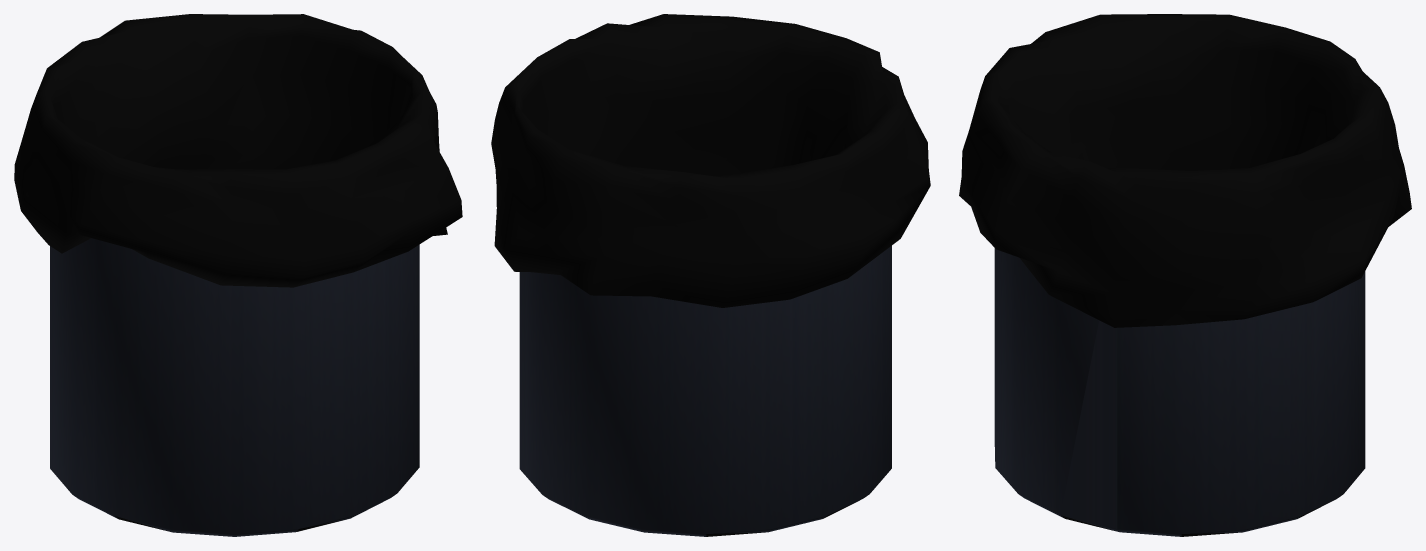
Rendered from bote.obj.
3 renders of one model, left to right at view 1: azimuth 30°, elevation 25°; view 2: azimuth 150°, elevation 25°; view 3: azimuth 270°, elevation 25°, orthographic.
Visible parts, largest first — view 1: cuarto:polySurface7790; view 2: cuarto:polySurface7790; view 3: cuarto:polySurface7790.
Boxes of the visible parts, box(x1,y1,x2,y2) form: cuarto:polySurface7790: box(14, 14, 462, 536); cuarto:polySurface7790: box(491, 14, 930, 536); cuarto:polySurface7790: box(959, 14, 1411, 536).
Bounding box in the file's own units: 0.6904 × 0.6489 × 0.7202.
